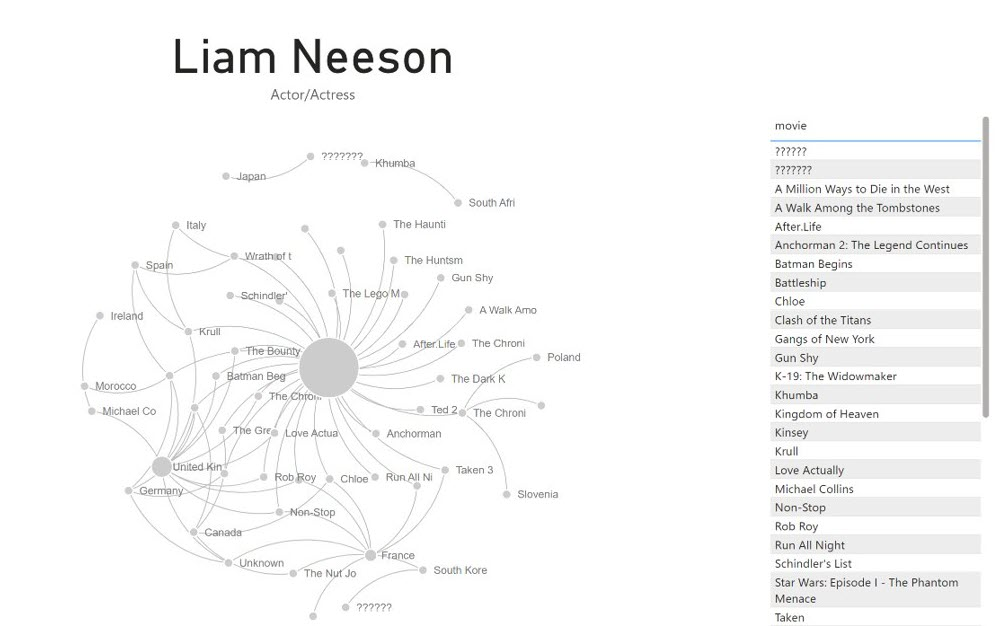

The dashboard page shown, as its layout file describes it:
{"tool":"powerbi","page":{"name":"Graph","canvas":[1280,720],"ordinal":1},"visuals":[{"type":"ForceGraph1449359463895","fields":{"Target":["Query1.country"],"Source":["Query1.movie"]},"box":[10,132.9,992.9,587.1],"z":0},{"type":"tableEx","fields":{"Values":["Query1.movie"]},"box":[1012.9,132.9,257.1,587.1],"z":2},{"type":"actionButton","box":[0,0,100,40],"z":3},{"type":"card","fields":{"Values":["Query1.actor"]},"box":[50.3,0,952.6,132.9],"z":4}]}

Visuals, with their boxes on the page's 1280x720 design canvas (x1, y1, x2, y2). These are canvas units, not pixel positions in the 1000x626 screenshot, which may show the page scaled, cropped or inside an application window:
ForceGraph1449359463895 - Query1.country x Query1.movie: Rect(10, 133, 1003, 720)
tableEx - Query1.movie: Rect(1013, 133, 1270, 720)
actionButton: Rect(0, 0, 100, 40)
card - Query1.actor: Rect(50, 0, 1003, 133)
